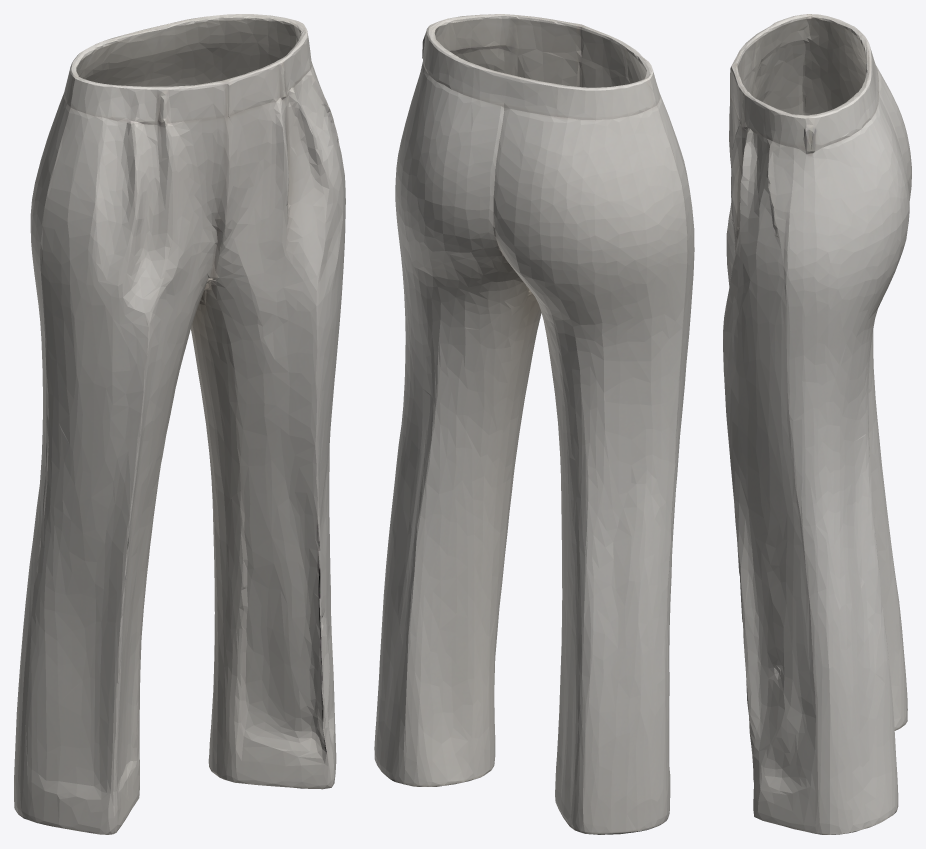
The model's file is WDressPants1.glb.
3 views of the same model, side by side, from view 1: azimuth 30°, elevation 25°; view 2: azimuth 150°, elevation 25°; view 3: azimuth 270°, elevation 25° (orthographic). The views are drawn at different scales.
Parts seen in each view (by area): view 1: world; view 2: world; view 3: world.
Boxes of the visible parts, x1=… form: world: x1=14, y1=14, x2=345, y2=834; world: x1=374, y1=14, x2=694, y2=834; world: x1=723, y1=14, x2=911, y2=834.
Bounding box in the file's own units: 0.4262 × 1 × 0.2444.
1 material, 1 textured.
